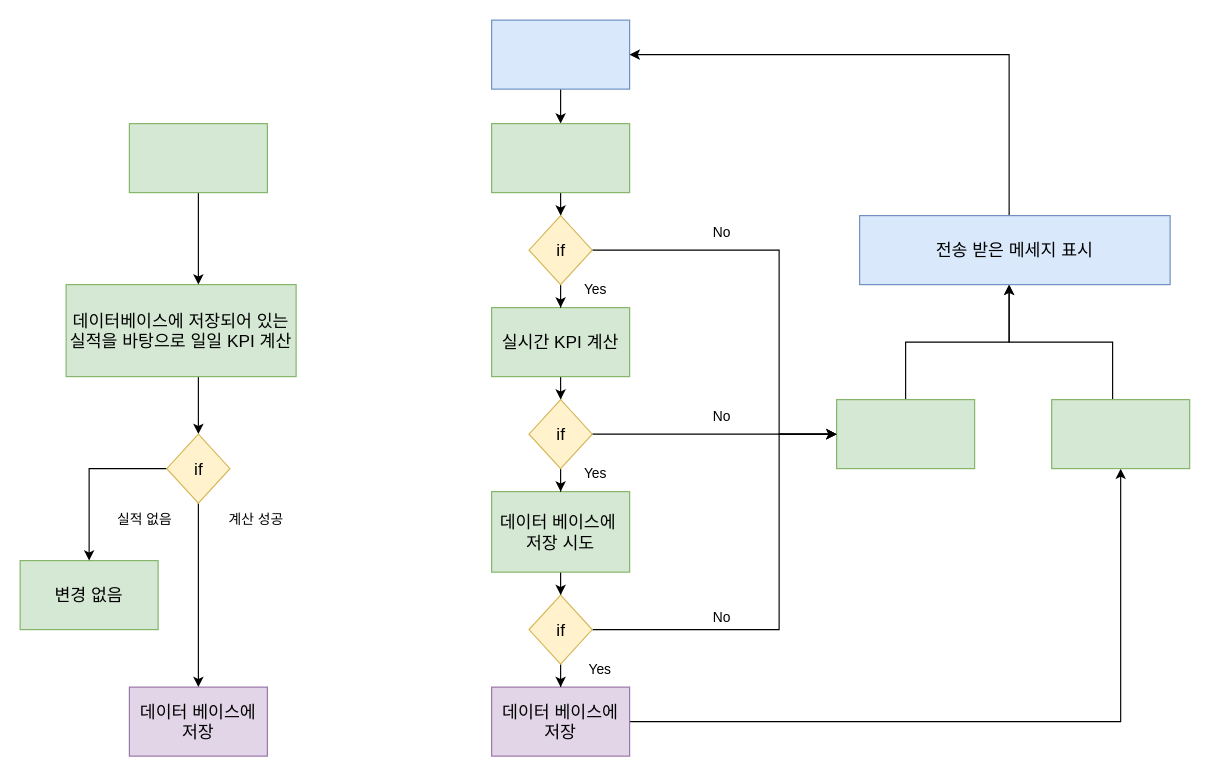
The diagram is 1210 pixels wide and 776 high, and some of its shapes have lost their labels. The shapes that lost their labels are listed below. From the top down, each one's box as (x1, y1, x2, y2) in pixels, then its label:
(490, 19, 630, 89): 실적 작성
(128, 122, 267, 193): 일일 KPI 계산
(490, 122, 630, 193): 실적 유효성 검사
(835, 398, 975, 469): 실패 메세지 전송
(1051, 398, 1190, 469): 성공 메세지 전송
